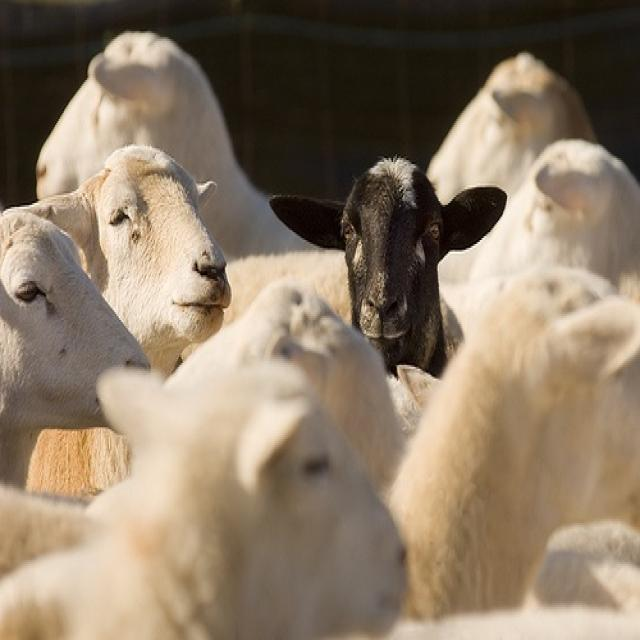sheep: (1, 360, 414, 639), (35, 25, 323, 261), (266, 151, 513, 374), (24, 138, 234, 380), (1, 206, 155, 485), (422, 50, 604, 206)
